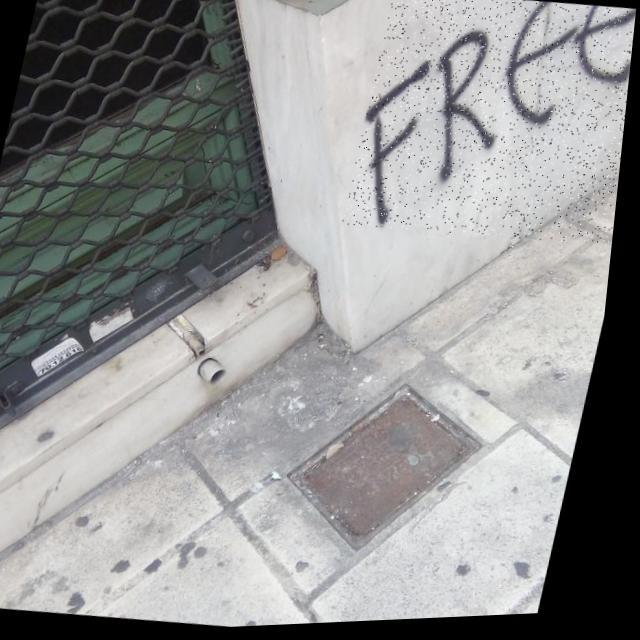-: (343, 0, 640, 261)
